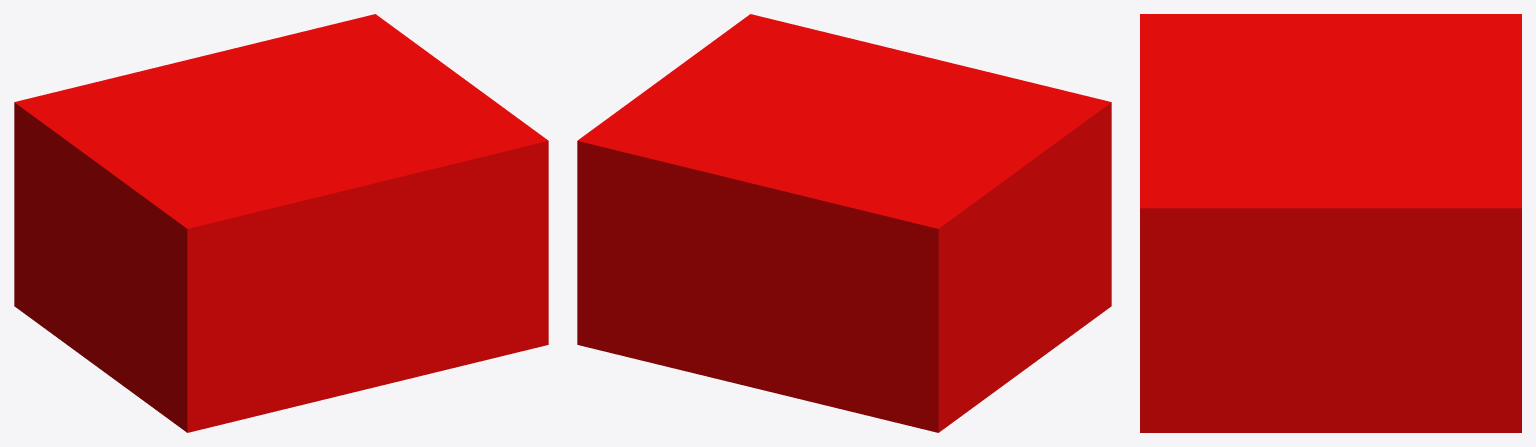
The model's file is ring_medial_lvs_col.dae.
3 renders of one model, left to right at view 1: azimuth 30°, elevation 25°; view 2: azimuth 150°, elevation 25°; view 3: azimuth 270°, elevation 25°, orthographic. The views are drawn at different scales.
Visible parts, largest first — view 1: node0; view 2: node0; view 3: node0.
Part boxes in pixels (x1=…): node0: x1=14, y1=14, x2=548, y2=432; node0: x1=577, y1=14, x2=1111, y2=432; node0: x1=1140, y1=14, x2=1521, y2=432.
Size of the model in its own units: 0.0261 by 0.0141 by 0.0216.
